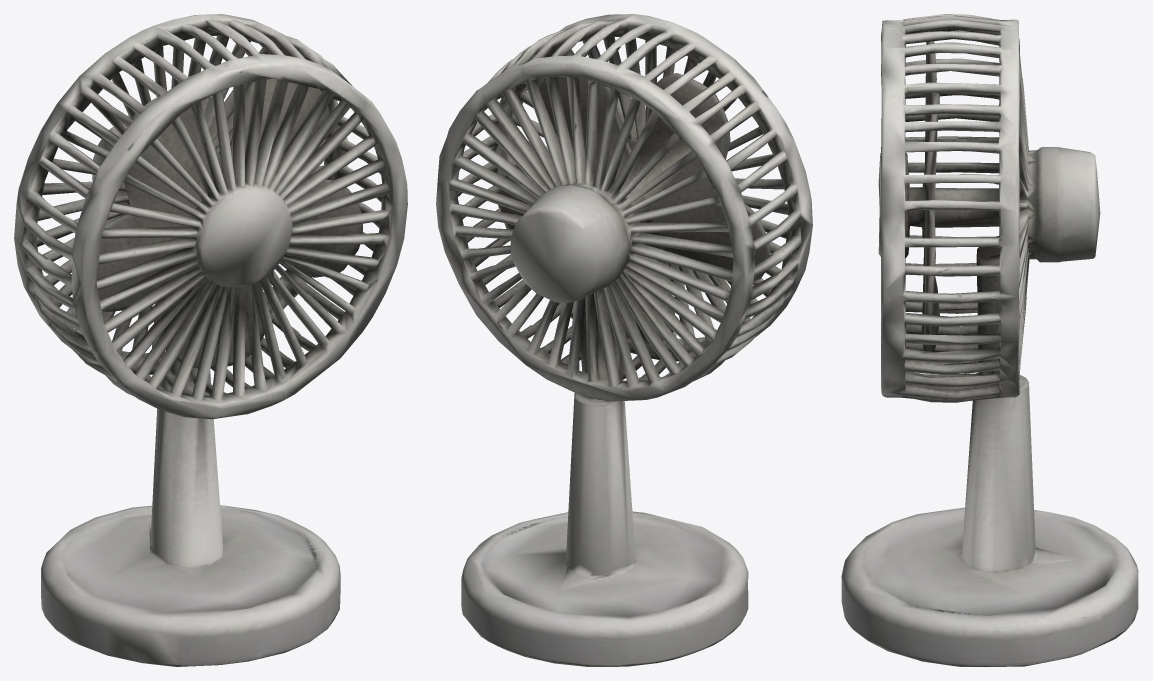
The model's file is fan-lite.glb.
3 views of the same model, side by side, from view 1: azimuth 30°, elevation 25°; view 2: azimuth 150°, elevation 25°; view 3: azimuth 270°, elevation 25° (orthographic). The views are drawn at different scales.
Parts seen in each view (by area): view 1: node_0; view 2: node_0; view 3: node_0.
Part boxes in pixels (x1,y1,x2,y2): node_0: [14, 14, 407, 666]; node_0: [436, 14, 812, 666]; node_0: [841, 14, 1138, 666].
Bounding box in the file's own units: 0.6537 × 1.09 × 0.5094.
1 material, 1 textured.
